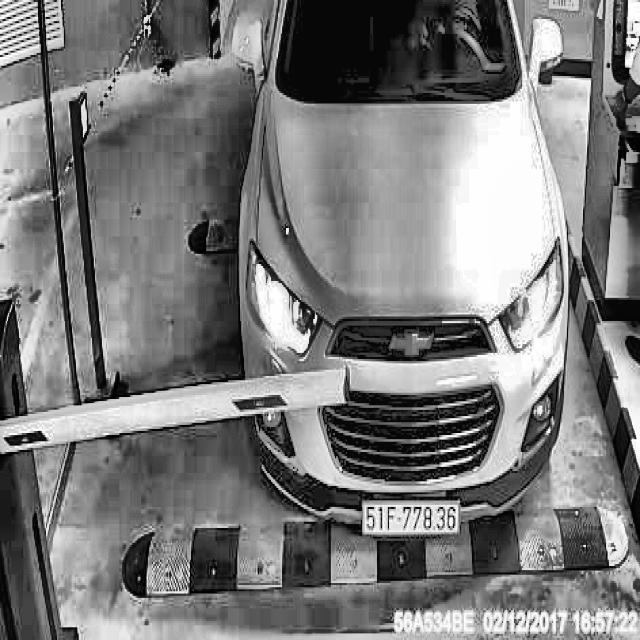plate: (359, 497, 462, 542)
